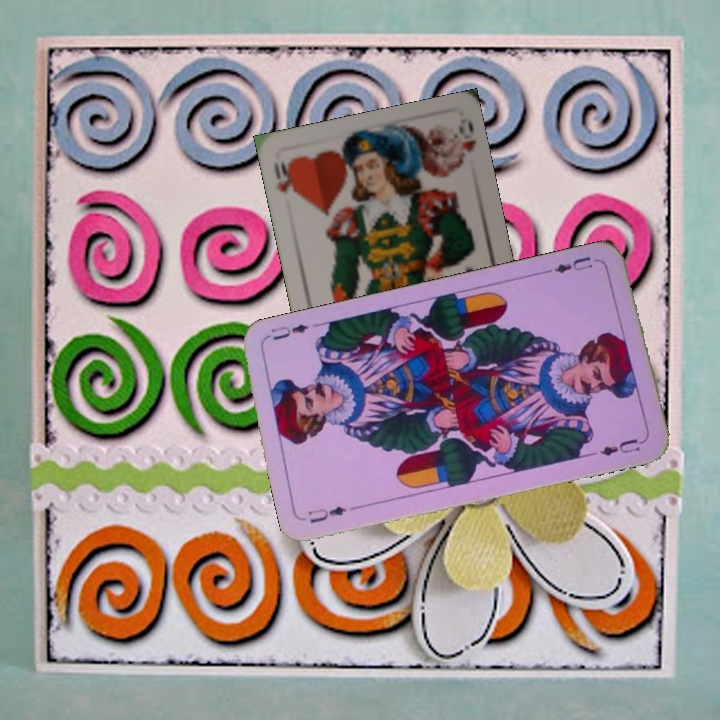EU: (304, 502, 350, 526), (550, 252, 595, 276)
HO: (269, 155, 301, 198)
